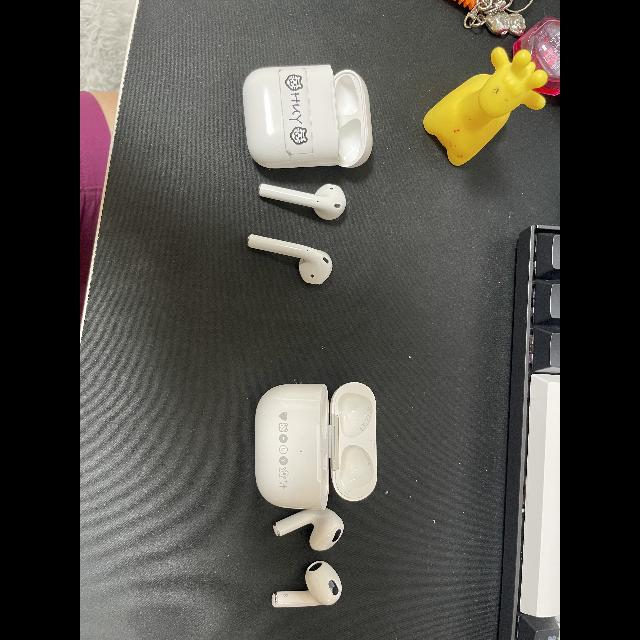airpod2: (238, 53, 378, 295)
airpod3: (245, 366, 382, 622)
